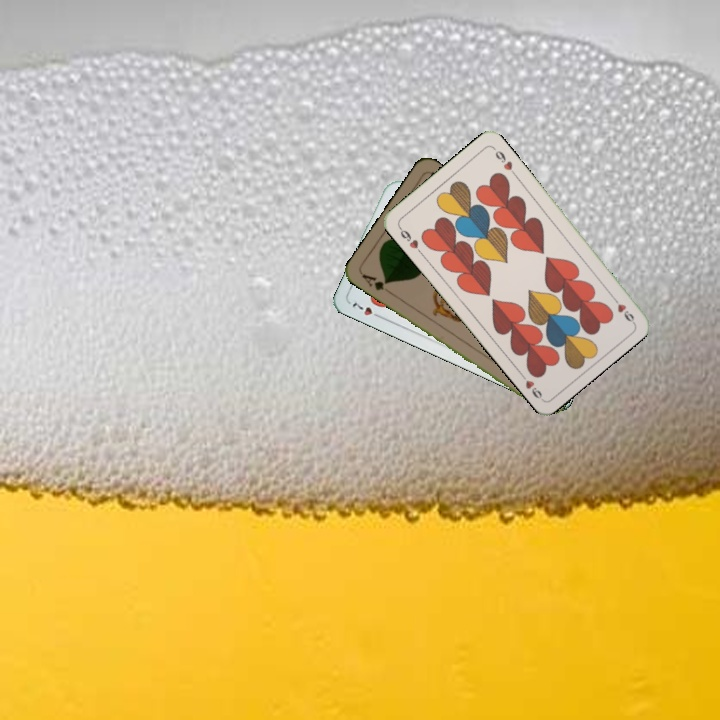GA: (358, 270, 394, 296)
H7: (348, 298, 385, 321)
H9: (394, 222, 424, 256), (607, 291, 637, 325)
